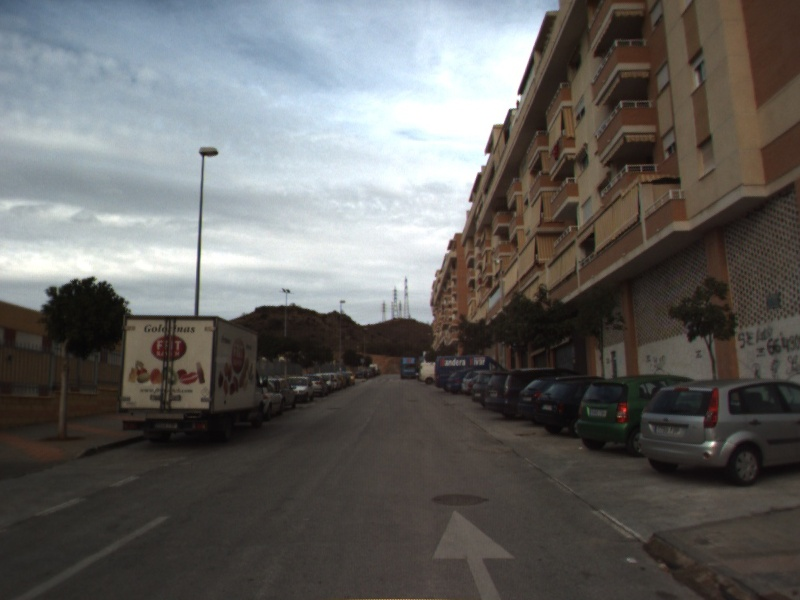STRAIGHT: (430, 508, 518, 600)
